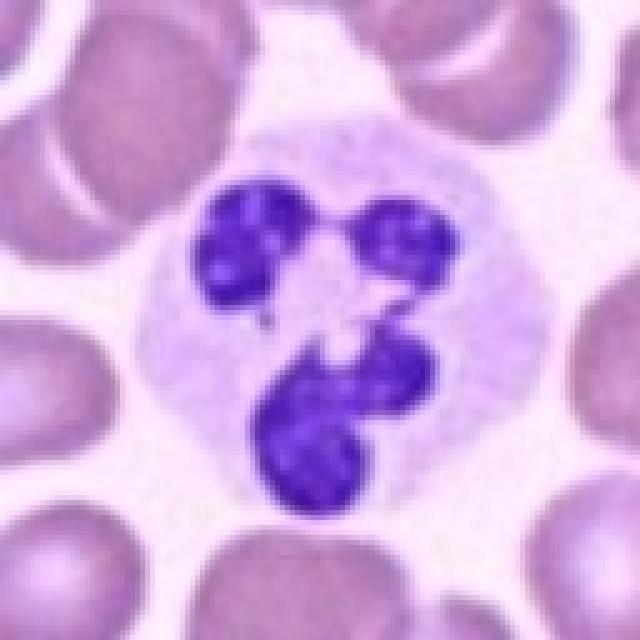neutro: (90, 51, 574, 479)
